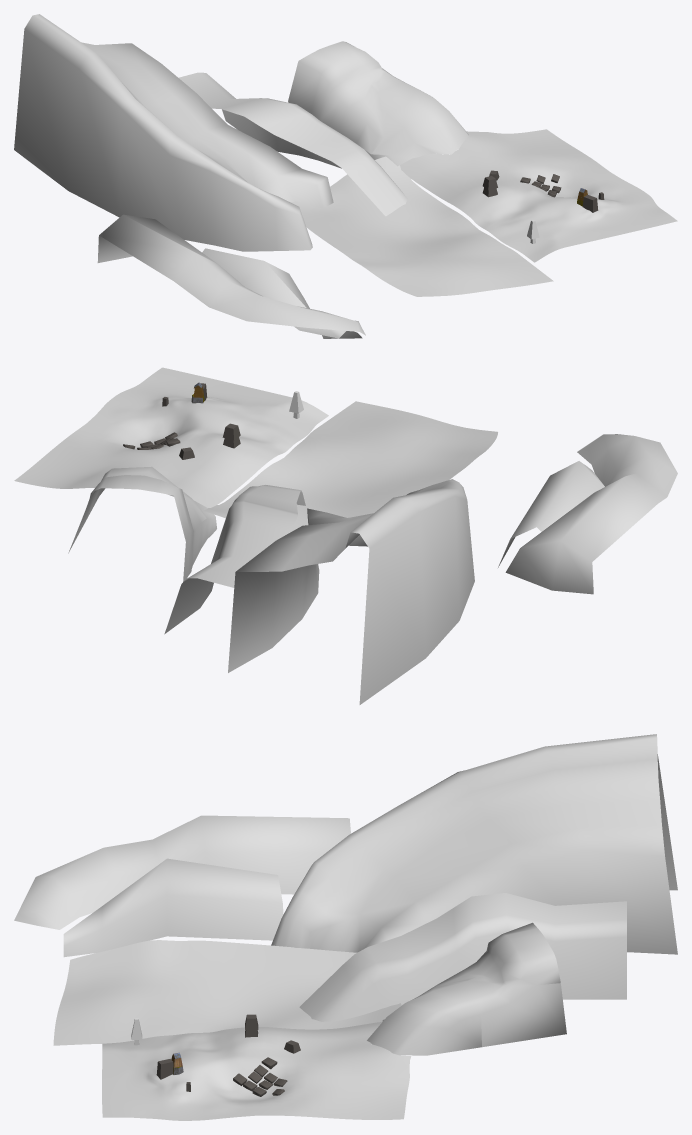
Rendered from assests.fbx.
3 views of the same model, one above another, from view 1: azimuth 30°, elevation 25°; view 2: azimuth 150°, elevation 25°; view 3: azimuth 270°, elevation 25° (orthographic). The views are drawn at different scales.
Visible parts, largest first — view 1: terrain_3, terrain_1, terrain_6, terrain_5, terrain_4, terrain_2, terrain_4.001; view 2: terrain_3, terrain_1, terrain_6, terrain_4, terrain_2, terrain_5, terrain_4.001; view 3: terrain_3, terrain_1, terrain_6, terrain_2, terrain_4, terrain_5, terrain_4.001.
Boxes of the visible parts, x1,y1,x2,y2 form: terrain_3: [14, 14, 333, 251]; terrain_1: [400, 129, 677, 262]; terrain_6: [291, 156, 553, 296]; terrain_5: [288, 41, 468, 166]; terrain_4: [97, 214, 365, 335]; terrain_2: [178, 72, 407, 216]; terrain_4.001: [202, 248, 362, 338]; terrain_3: [228, 479, 474, 704]; terrain_1: [14, 367, 328, 507]; terrain_6: [203, 401, 497, 531]; terrain_4: [505, 434, 677, 594]; terrain_2: [164, 485, 305, 634]; terrain_5: [68, 466, 216, 581]; terrain_4.001: [498, 461, 604, 567]; terrain_3: [271, 734, 677, 954]; terrain_1: [102, 1021, 411, 1120]; terrain_6: [53, 940, 401, 1045]; terrain_2: [299, 893, 626, 1021]; terrain_4: [14, 815, 350, 929]; terrain_5: [367, 922, 566, 1055]; terrain_4.001: [63, 858, 283, 957].
Size of the model in its own units: 189 by 60.81 by 194.
